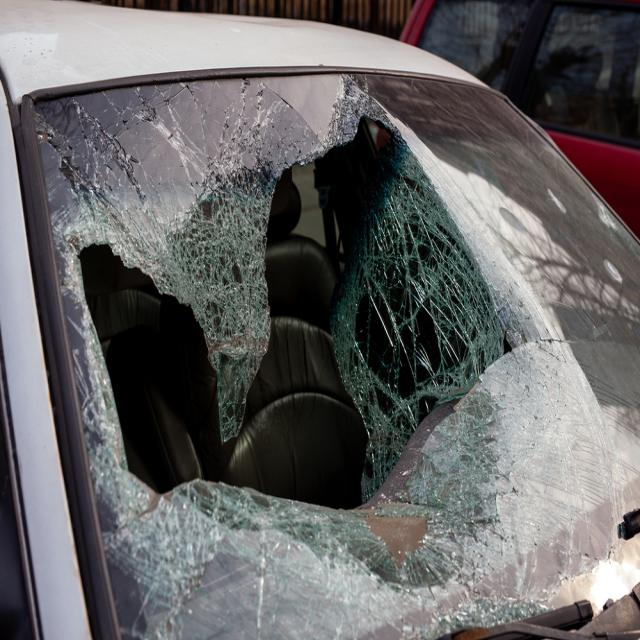glass shatter: (33, 72, 640, 640)
